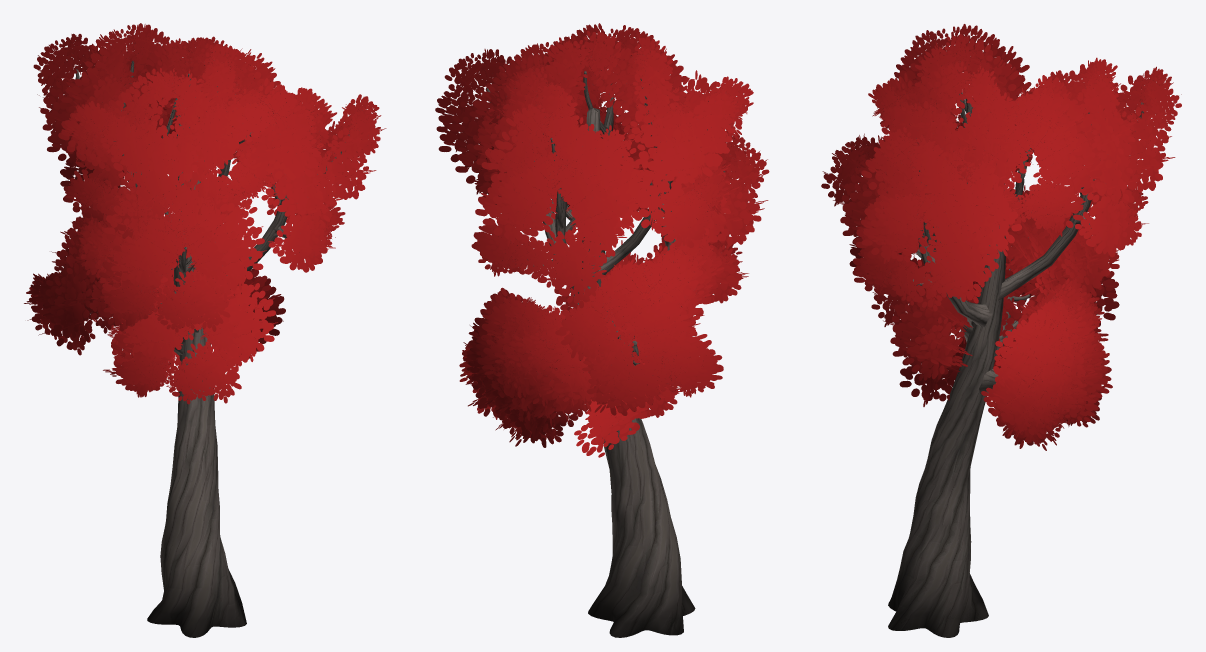
The model's file is TwistedTree_5.glb.
3 views of the same model, side by side, from view 1: azimuth 30°, elevation 25°; view 2: azimuth 150°, elevation 25°; view 3: azimuth 270°, elevation 25° (orthographic). The views are drawn at different scales.
Visible parts, largest first — view 1: TwistedTree_5; view 2: TwistedTree_5; view 3: TwistedTree_5.
Part boxes in pixels (bbox=[...]): TwistedTree_5: bbox=[24, 23, 386, 637]; TwistedTree_5: bbox=[435, 23, 769, 637]; TwistedTree_5: bbox=[821, 24, 1181, 637].
Size of the model in its own units: 9.5 by 15.66 by 9.39.
2 materials, 2 textured.
